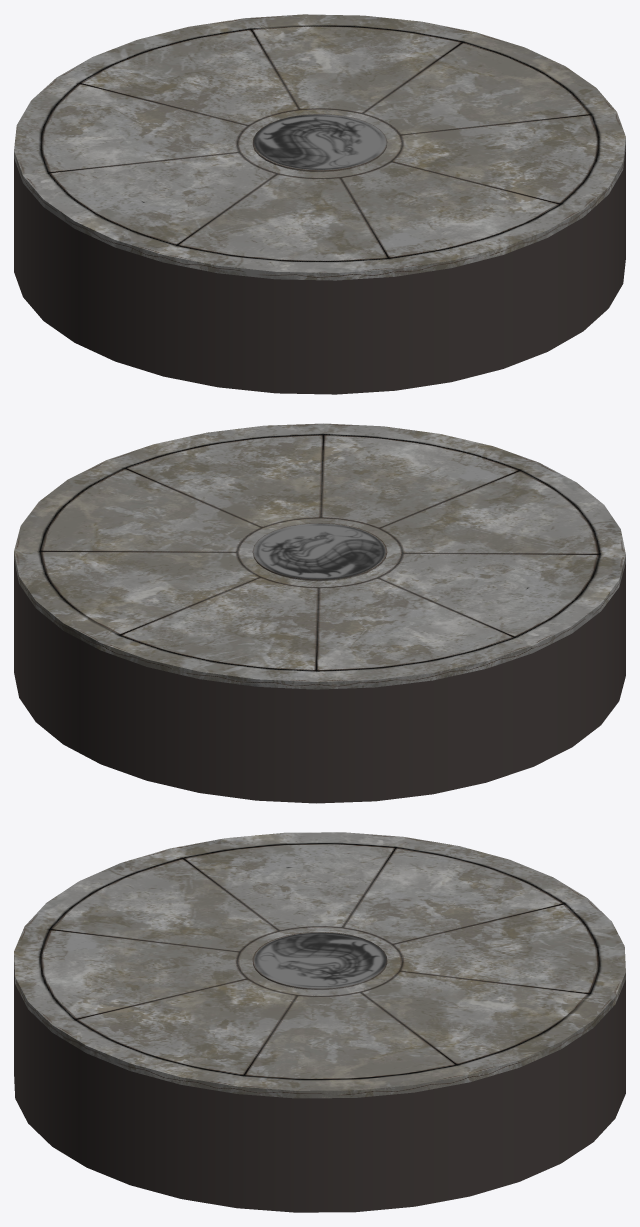
File: props_para_mk.fbx
The picture shows the model from 3 angles, top to bottom: view 1: azimuth 30°, elevation 25°; view 2: azimuth 150°, elevation 25°; view 3: azimuth 270°, elevation 25°; orthographic projection.
Parts seen in each view (by area): view 1: Circle.001; view 2: Circle.001; view 3: Circle.001.
Part boxes in pixels (x1=…): Circle.001: x1=14, y1=14, x2=625, y2=394; Circle.001: x1=14, y1=423, x2=625, y2=803; Circle.001: x1=14, y1=832, x2=625, y2=1212.
Size of the model in its own units: 5.85 by 1.3 by 5.85.
